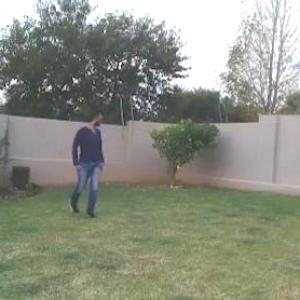follow: (66, 100, 112, 235)
